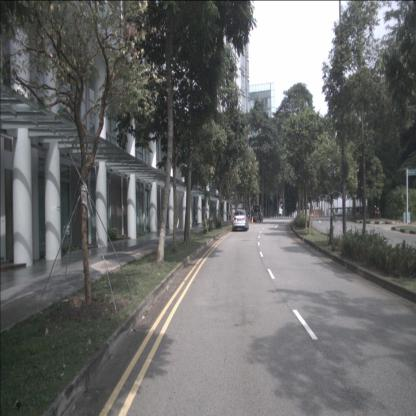cone: (251, 216, 254, 224)
